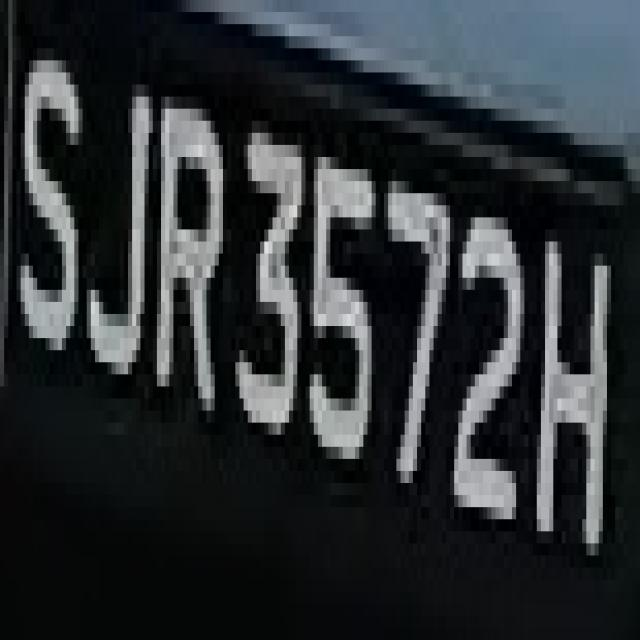2: (458, 193, 533, 580)
3: (232, 60, 298, 495)
5: (293, 145, 384, 471)
7: (388, 145, 458, 519)
H: (532, 205, 598, 640)
J: (87, 49, 161, 398)
R: (144, 84, 223, 410)
S: (16, 0, 86, 398)
